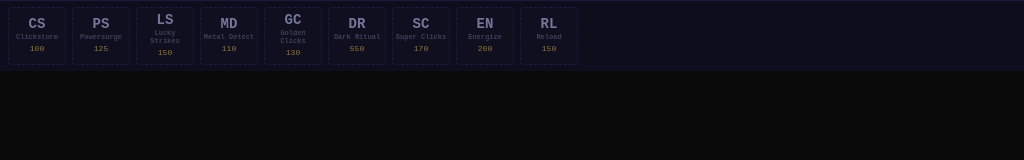
it: SkillsHotbar › activates an unlocked skill and starts cooldown
Click the text "Clickstorm" at (37, 36), box x1=8 y1=7 x2=66 y2=65
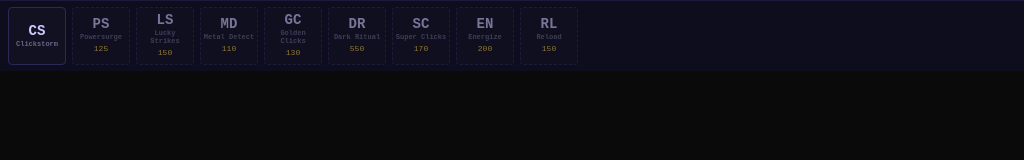
Click the text "Clickstorm" at (37, 36), box x1=8 y1=7 x2=66 y2=65
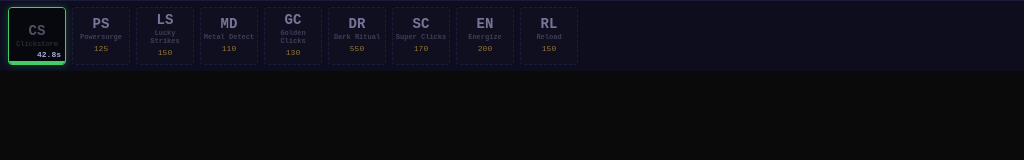
Expected: the text "42.8s" is shown, x1=37 y1=49 x2=61 y2=61
